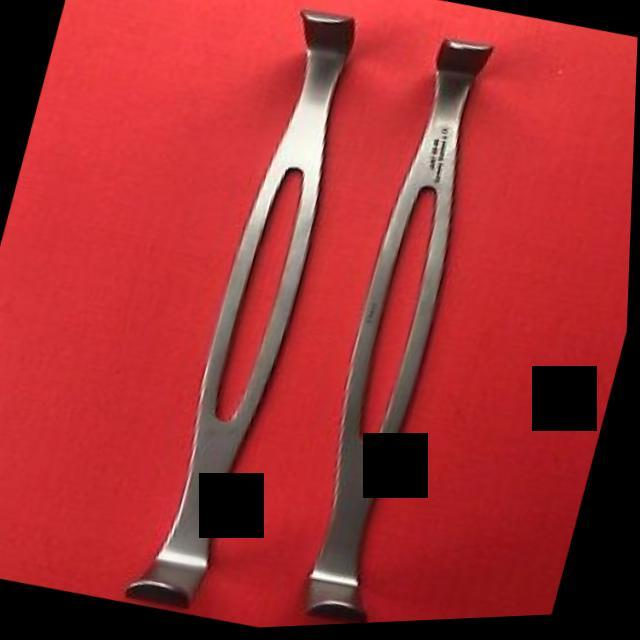Army Navy Retractor: (105, 0, 390, 628), (269, 18, 536, 630)
